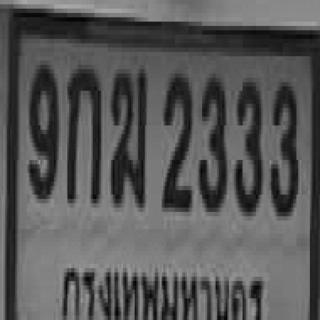A01: (66, 65, 99, 199)
A06: (109, 65, 146, 203)
N02: (162, 69, 190, 208)
N03: (197, 74, 226, 208), (234, 78, 261, 212), (270, 78, 296, 212)
N09: (27, 60, 57, 194)
P04: (61, 260, 268, 319)
